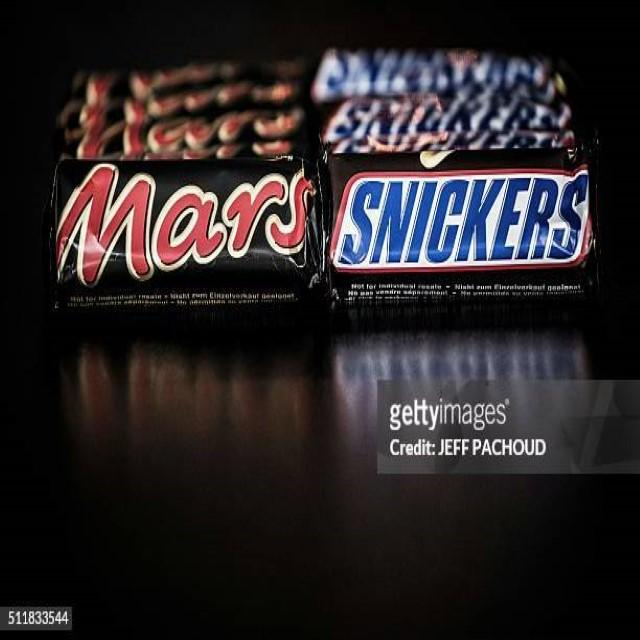mars_chocolate: (65, 163, 315, 292)
snickers_chocolate: (343, 152, 600, 283)
